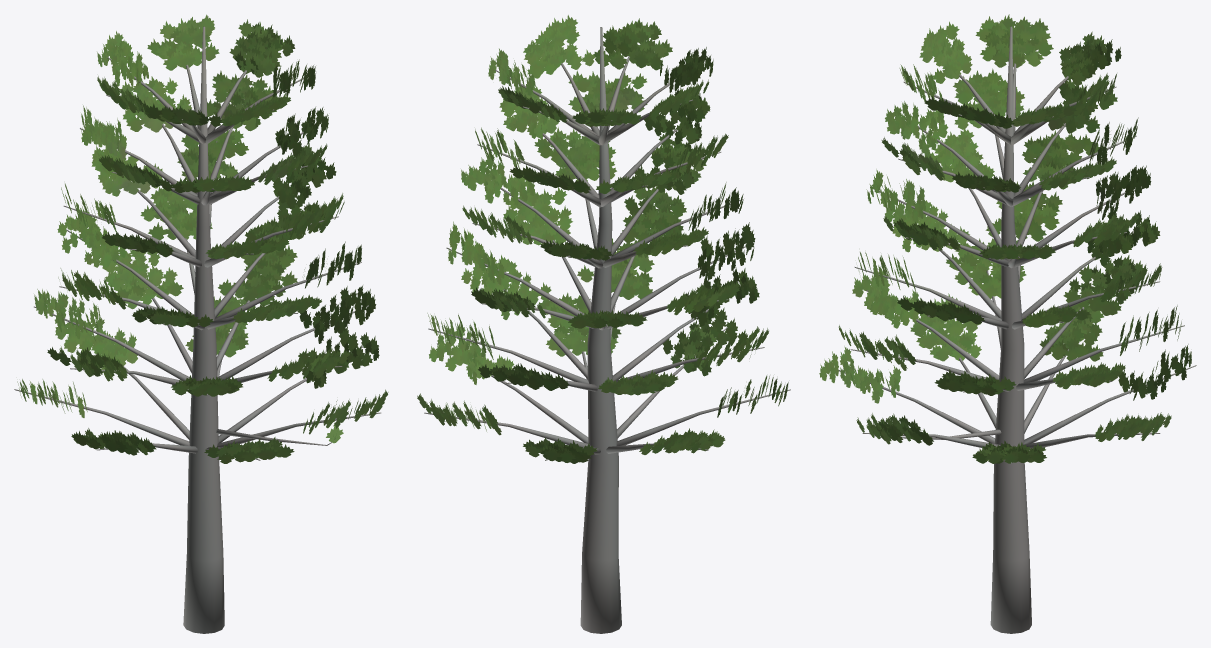
Rendered from red_maple_hybrid.glb.
3 renders of one model, left to right at view 1: azimuth 30°, elevation 25°; view 2: azimuth 150°, elevation 25°; view 3: azimuth 270°, elevation 25°, orthographic.
Parts seen in each view (by area): view 1: MapleLeafCanopy, MapleTrunkAndBranches; view 2: MapleLeafCanopy, MapleTrunkAndBranches; view 3: MapleLeafCanopy, MapleTrunkAndBranches.
Boxes of the visible parts, x1=… form: MapleLeafCanopy: x1=17, y1=14, x2=388, y2=463; MapleTrunkAndBranches: x1=14, y1=26, x2=380, y2=633; MapleLeafCanopy: x1=417, y1=15, x2=788, y2=463; MapleTrunkAndBranches: x1=424, y1=27, x2=790, y2=633; MapleLeafCanopy: x1=819, y1=14, x2=1191, y2=463; MapleTrunkAndBranches: x1=839, y1=26, x2=1196, y2=633.
Bounding box in the file's own units: 3.06 × 5.42 × 3.1.
